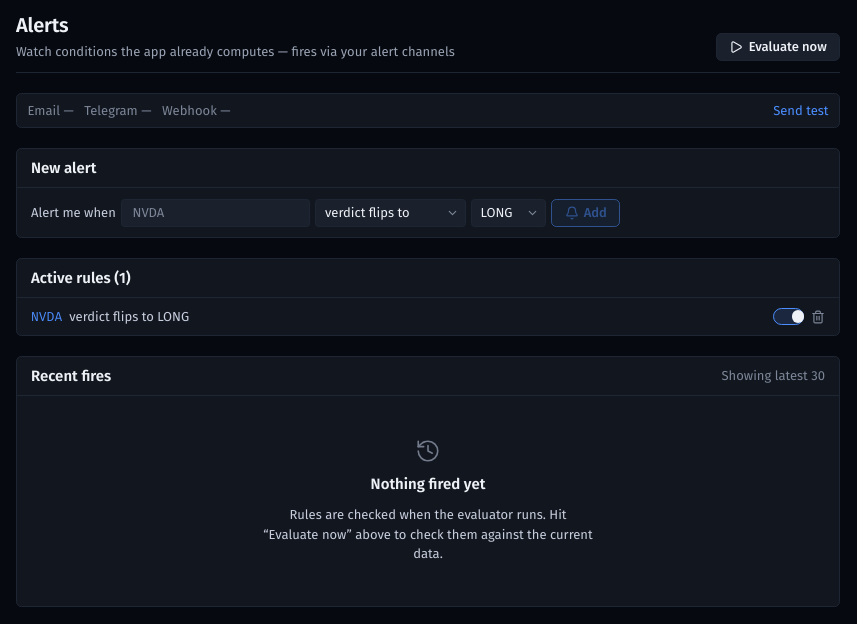
Test: AlertsPage rule builder is a sentence (AL-09) › reads 'Alert me when [symbol] [condition] [target]' in one line
The image size is (857, 624).
expect the text "Alert me when" is shown: met, box [31,203,116,222]
expect the dropdown named "Verdict" is shown: met, box [471,198,546,226]
Select "has earnings within" in the dropdown named "Condition" at (390, 212), box [315,198,466,226]
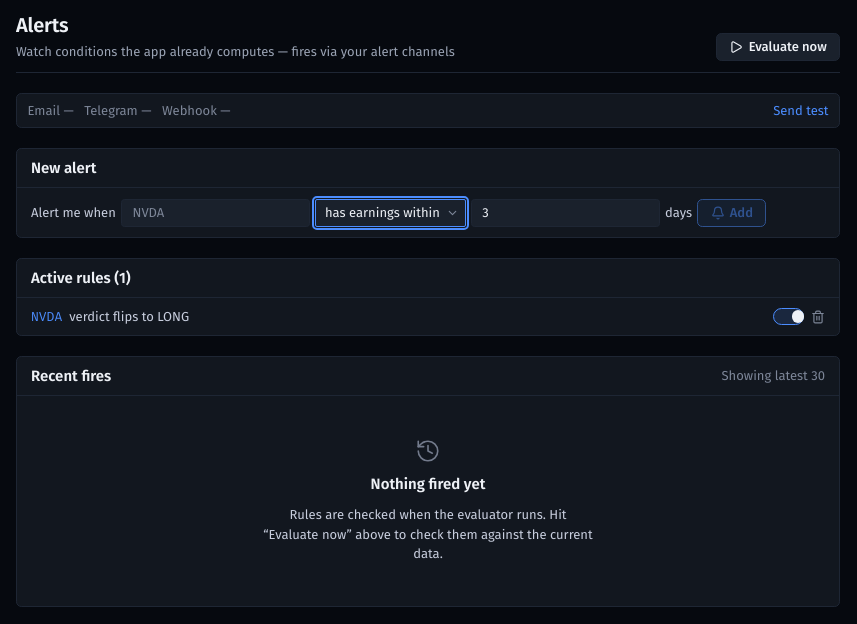
expect the number field named "Days" is shown: met, box [471,198,660,226]
expect the text "days" is shown: met, box [665,203,692,222]
